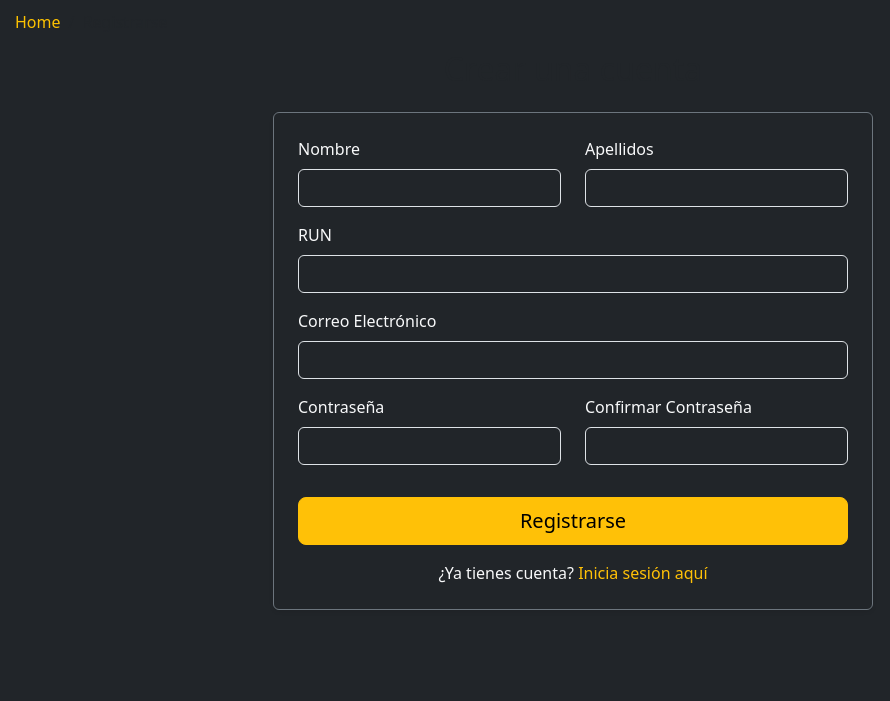
it: Registro - validaciones › rechaza un correo que ya está registrado (sin importar mayúsculas)
Type "Ana" into the field below "Nombre". click: (430, 188)
box: [298,169,561,207]
Type "Pérez" into the field below "Apellidos". click: (716, 188)
box: [585,169,848,207]
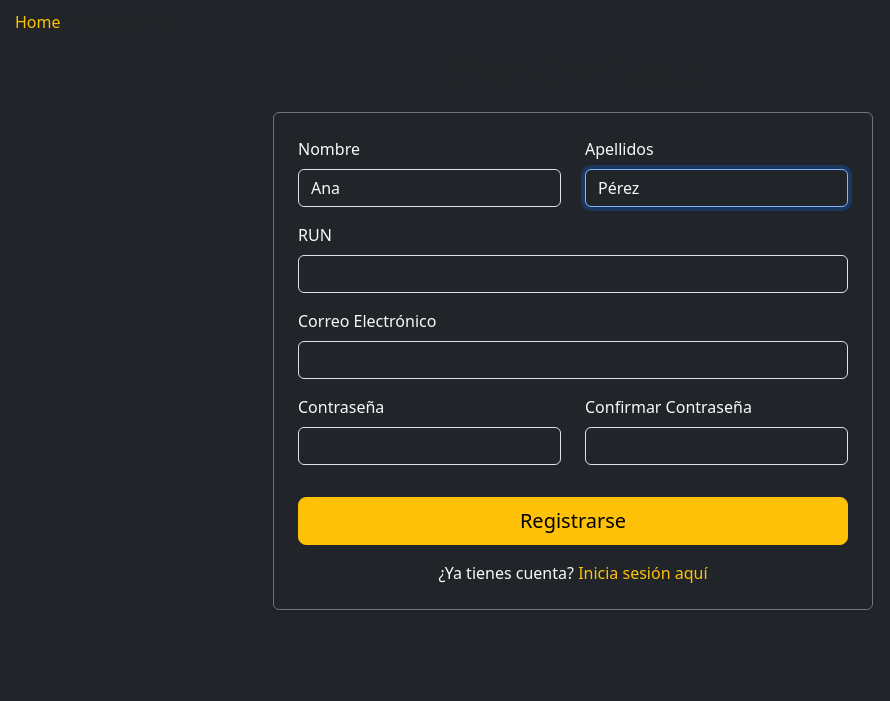
Type "12345678-9" into the field below "RUN". click: (573, 274)
box: [298,255,848,293]
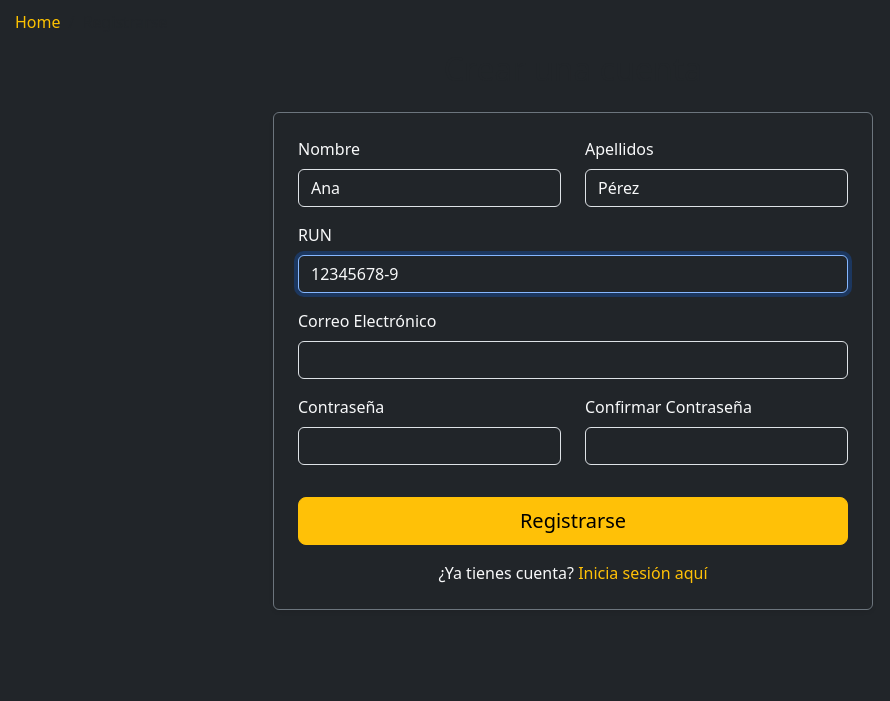
Type "Ana@Correo.cl" into the field below "Correo Electrónico". click: (573, 360)
box: [298,341,848,379]
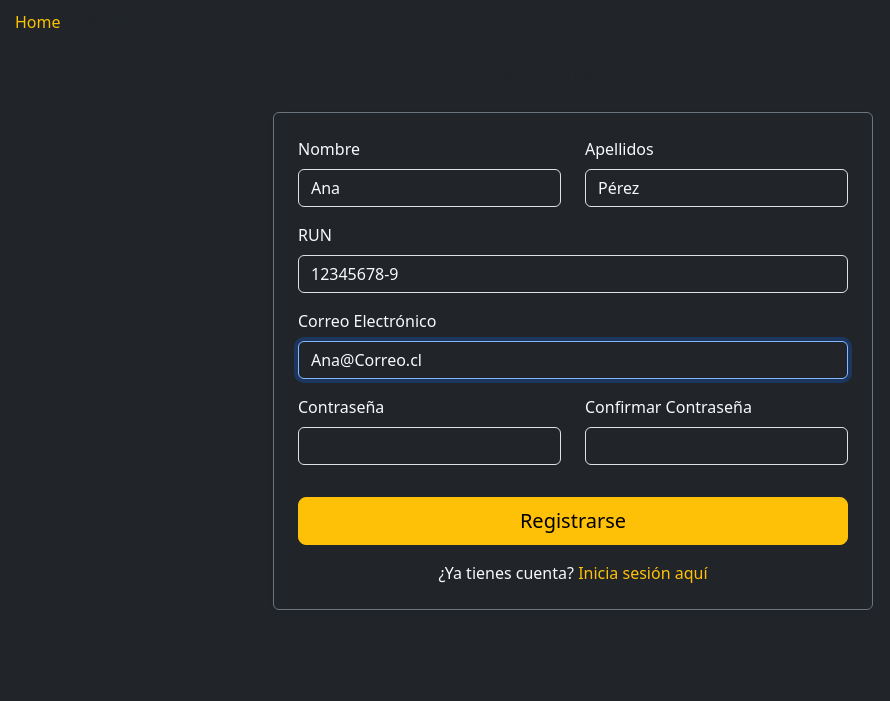
Type "clave123" into the 1st password field. click: (430, 446)
box: [298,427,561,465]
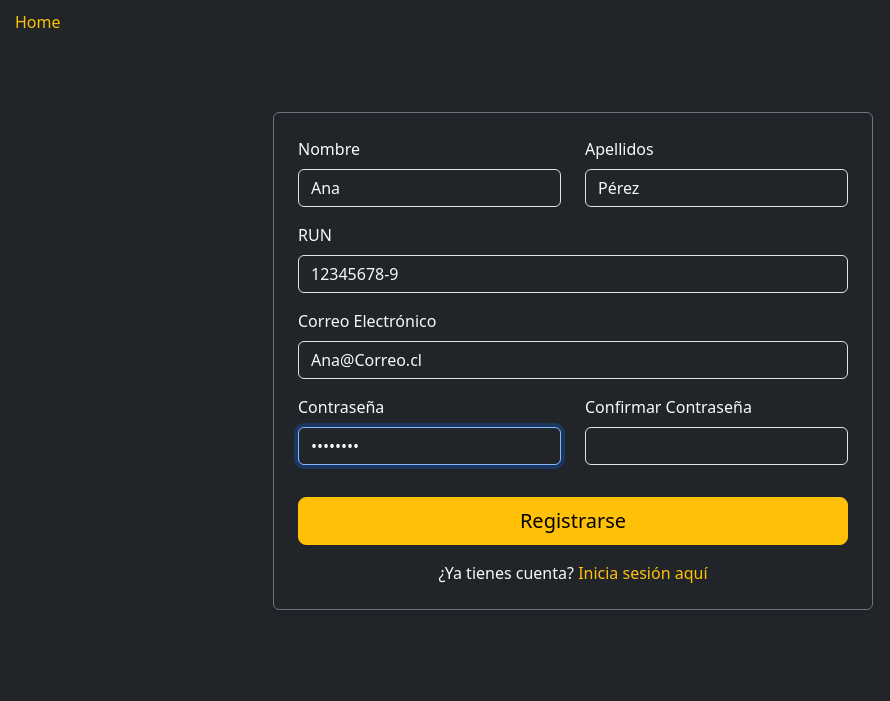
Type "clave123" into the password field below "Confirmar Contraseña". click: (716, 446)
box: [585,427,848,465]
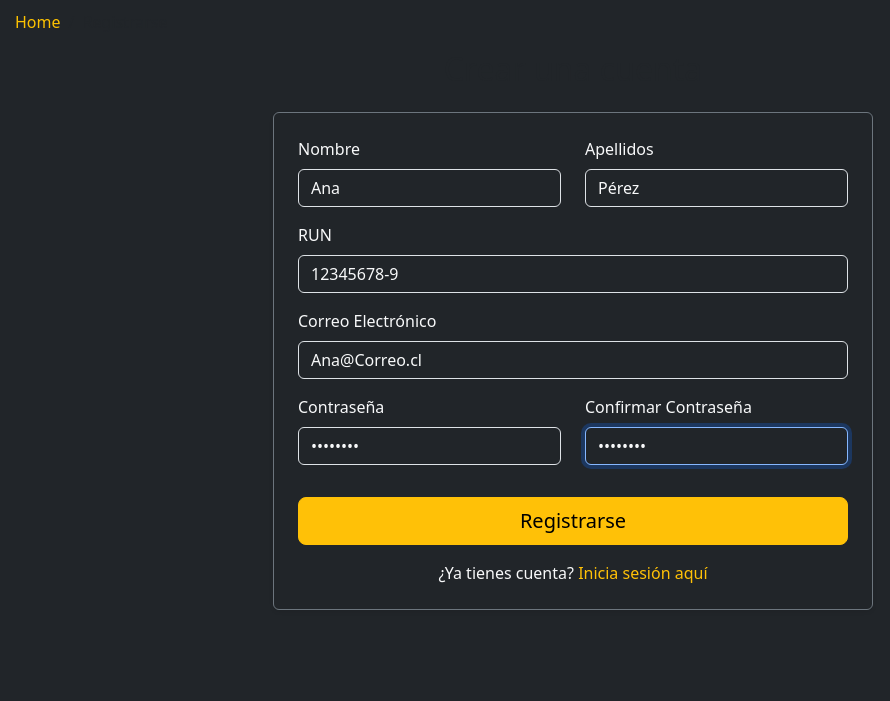
Click the button "Registrarse". click: (573, 521)
box: [298,497,848,545]
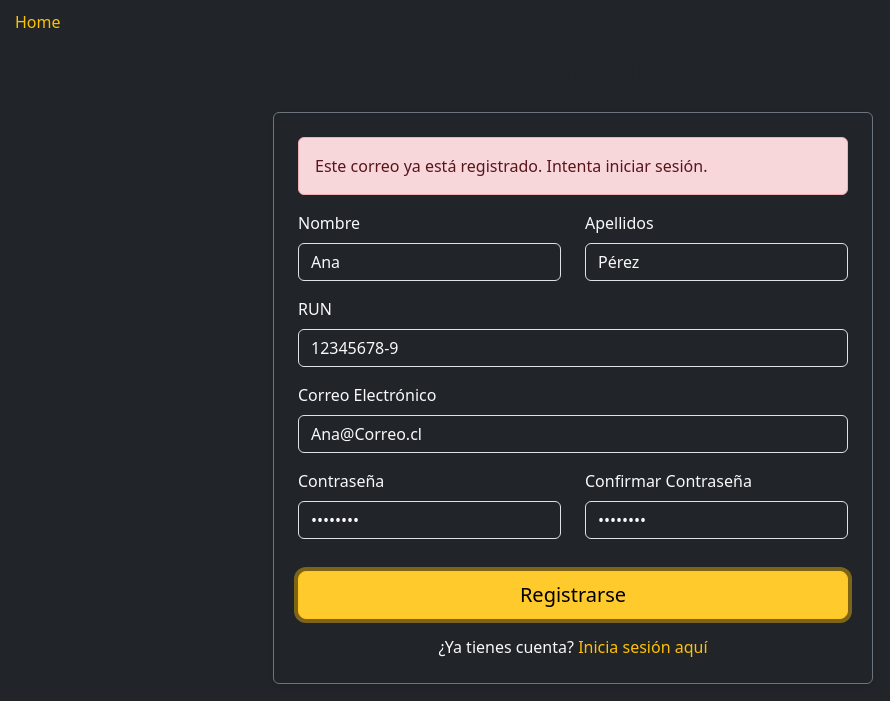
Result: the text "Este correo ya está registrado. Intenta iniciar sesión." is shown at [298,137,848,195]
